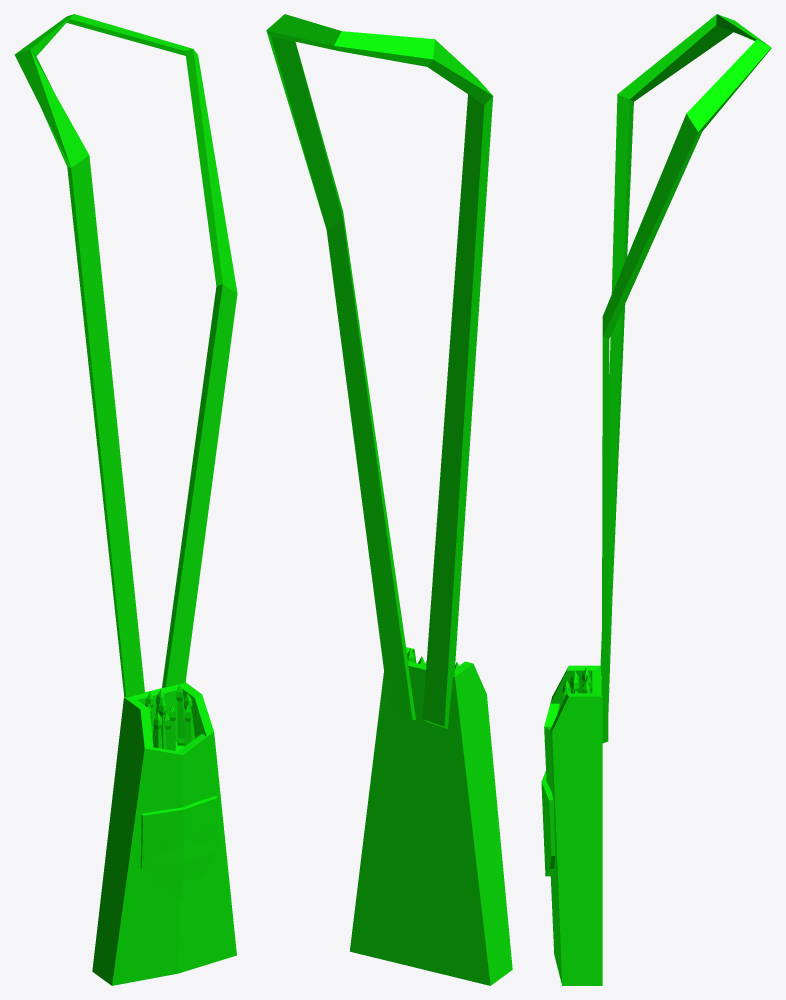
The model's file is SM_Quiver_Bolt_Full_A_Placed_Fantasy.fbx.
3 renders of one model, left to right at view 1: azimuth 30°, elevation 25°; view 2: azimuth 150°, elevation 25°; view 3: azimuth 270°, elevation 25°, orthographic. The views are drawn at different scales.
Visible parts, largest first — view 1: quiver-bolt-full-a-placed-fantasy; view 2: quiver-bolt-full-a-placed-fantasy; view 3: quiver-bolt-full-a-placed-fantasy.
Boxes of the visible parts, x1=… form: quiver-bolt-full-a-placed-fantasy: x1=14, y1=14, x2=237, y2=985; quiver-bolt-full-a-placed-fantasy: x1=266, y1=14, x2=512, y2=985; quiver-bolt-full-a-placed-fantasy: x1=541, y1=14, x2=771, y2=985.
Size of the model in its own units: 0.1964 by 1.01 by 0.2298.
